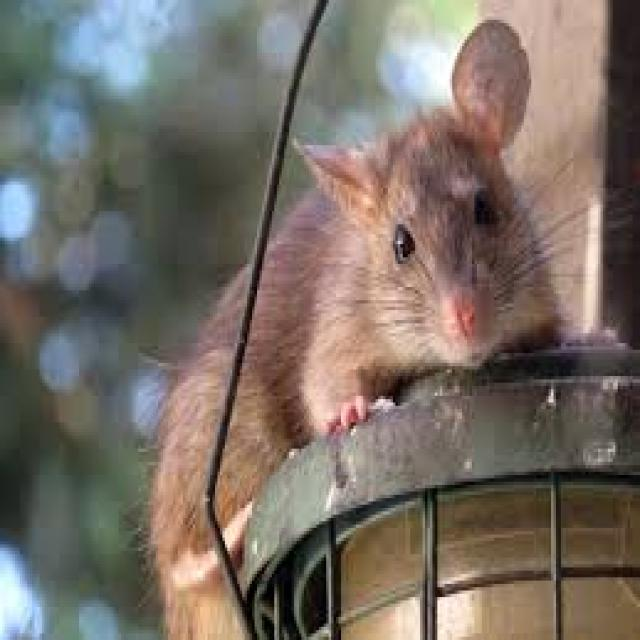rat: (150, 11, 563, 582)
